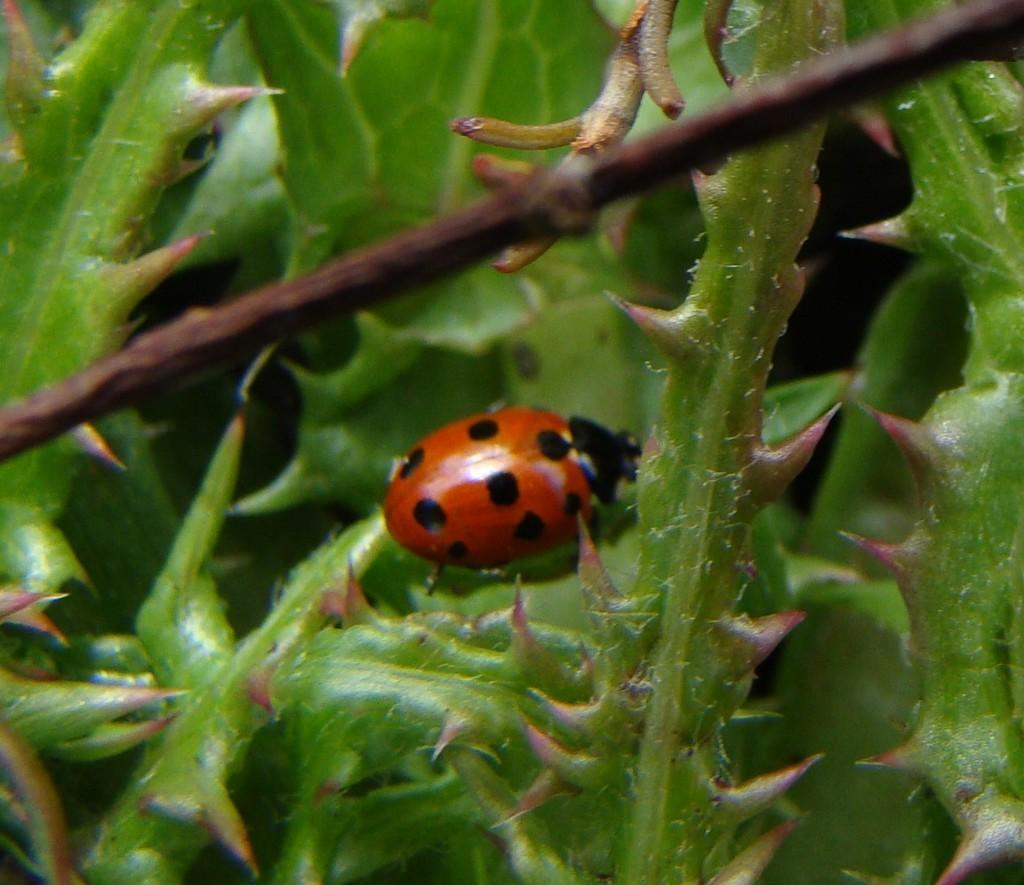ladybug: (381, 401, 651, 599)
